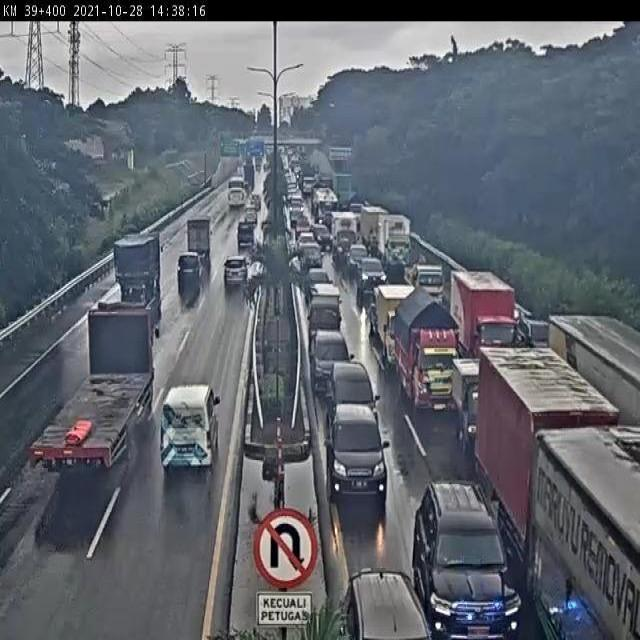big bus: (226, 172, 248, 212)
big truck: (31, 292, 159, 488), (396, 287, 465, 416), (375, 281, 428, 371), (115, 227, 168, 300), (185, 208, 228, 275)
car: (482, 346, 640, 640), (410, 470, 518, 640), (340, 566, 433, 640), (329, 402, 392, 509), (161, 377, 227, 479), (450, 269, 526, 348), (452, 355, 506, 456), (325, 359, 388, 441), (308, 328, 349, 396), (307, 292, 351, 339), (220, 252, 256, 295), (360, 255, 389, 305), (174, 252, 203, 289)
small truck: (236, 222, 258, 250)
